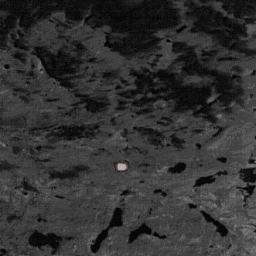Target: (114, 162, 126, 172)
